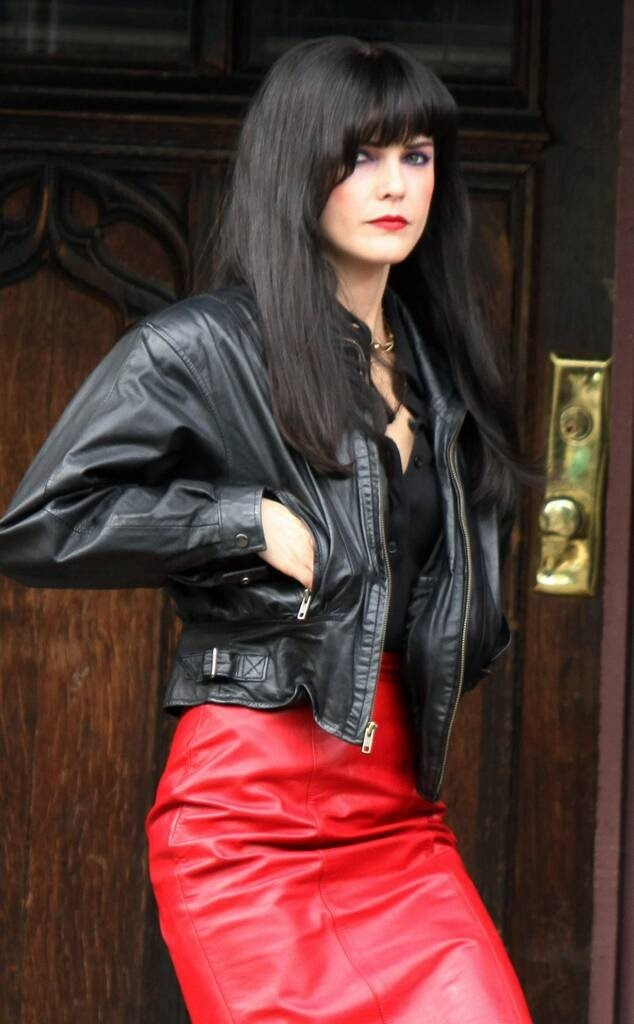face_no_mask: (241, 45, 446, 267)
